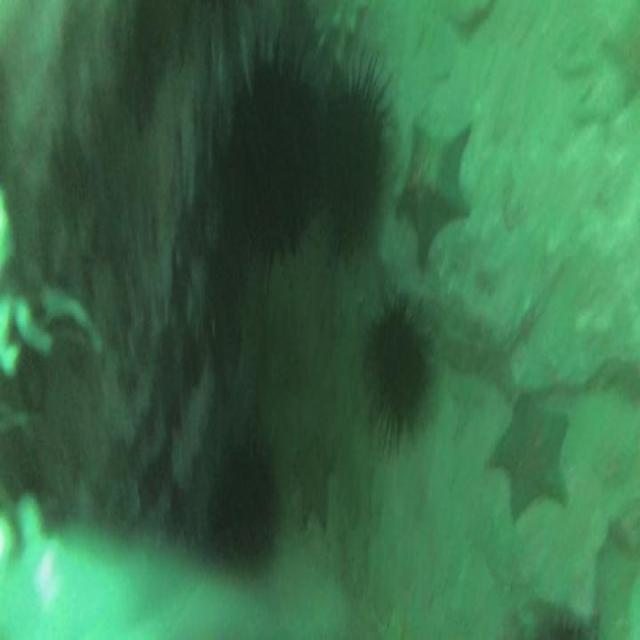echinus: (227, 54, 321, 253), (327, 84, 385, 251), (210, 448, 276, 568), (372, 311, 427, 435)
starfish: (398, 117, 470, 269), (492, 398, 572, 520), (290, 441, 330, 528)
